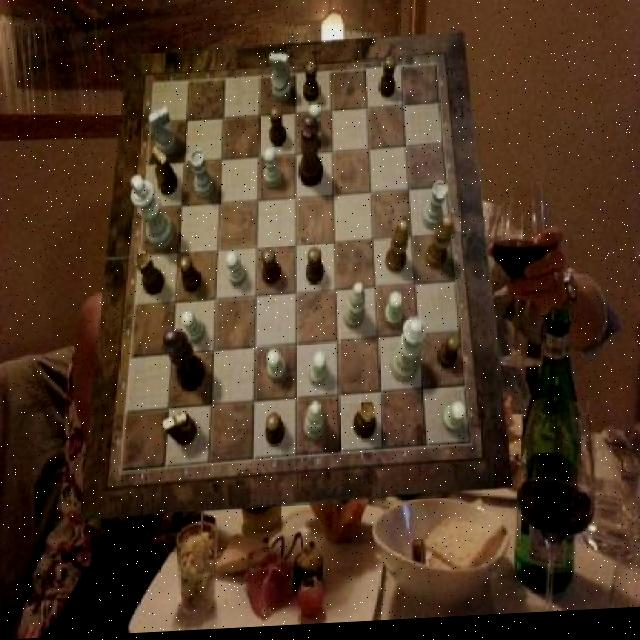bishop: (426, 220, 453, 273), (386, 225, 409, 280)
black-bishop: (163, 330, 206, 394)
black-king: (152, 146, 178, 198), (161, 414, 197, 450)
black-knight: (438, 338, 462, 373), (178, 258, 201, 293), (270, 110, 288, 150), (380, 61, 397, 103), (262, 250, 280, 289), (266, 416, 286, 451), (306, 250, 324, 288), (303, 66, 319, 106)
black-pawn: (299, 118, 323, 191)
black-queen: (136, 252, 166, 298), (354, 403, 377, 444)
black-rook: (344, 287, 366, 333), (305, 404, 327, 445)
white-bishop: (130, 174, 174, 252)
white-king: (149, 107, 177, 157), (269, 56, 292, 106)
white-knight: (182, 310, 206, 346), (226, 253, 246, 290), (443, 406, 466, 437), (265, 151, 282, 192), (308, 107, 324, 149), (268, 353, 288, 386), (310, 354, 328, 390), (385, 296, 402, 331)
white-pawn: (391, 321, 427, 388)
white-queen: (423, 187, 448, 235), (190, 151, 214, 201)
